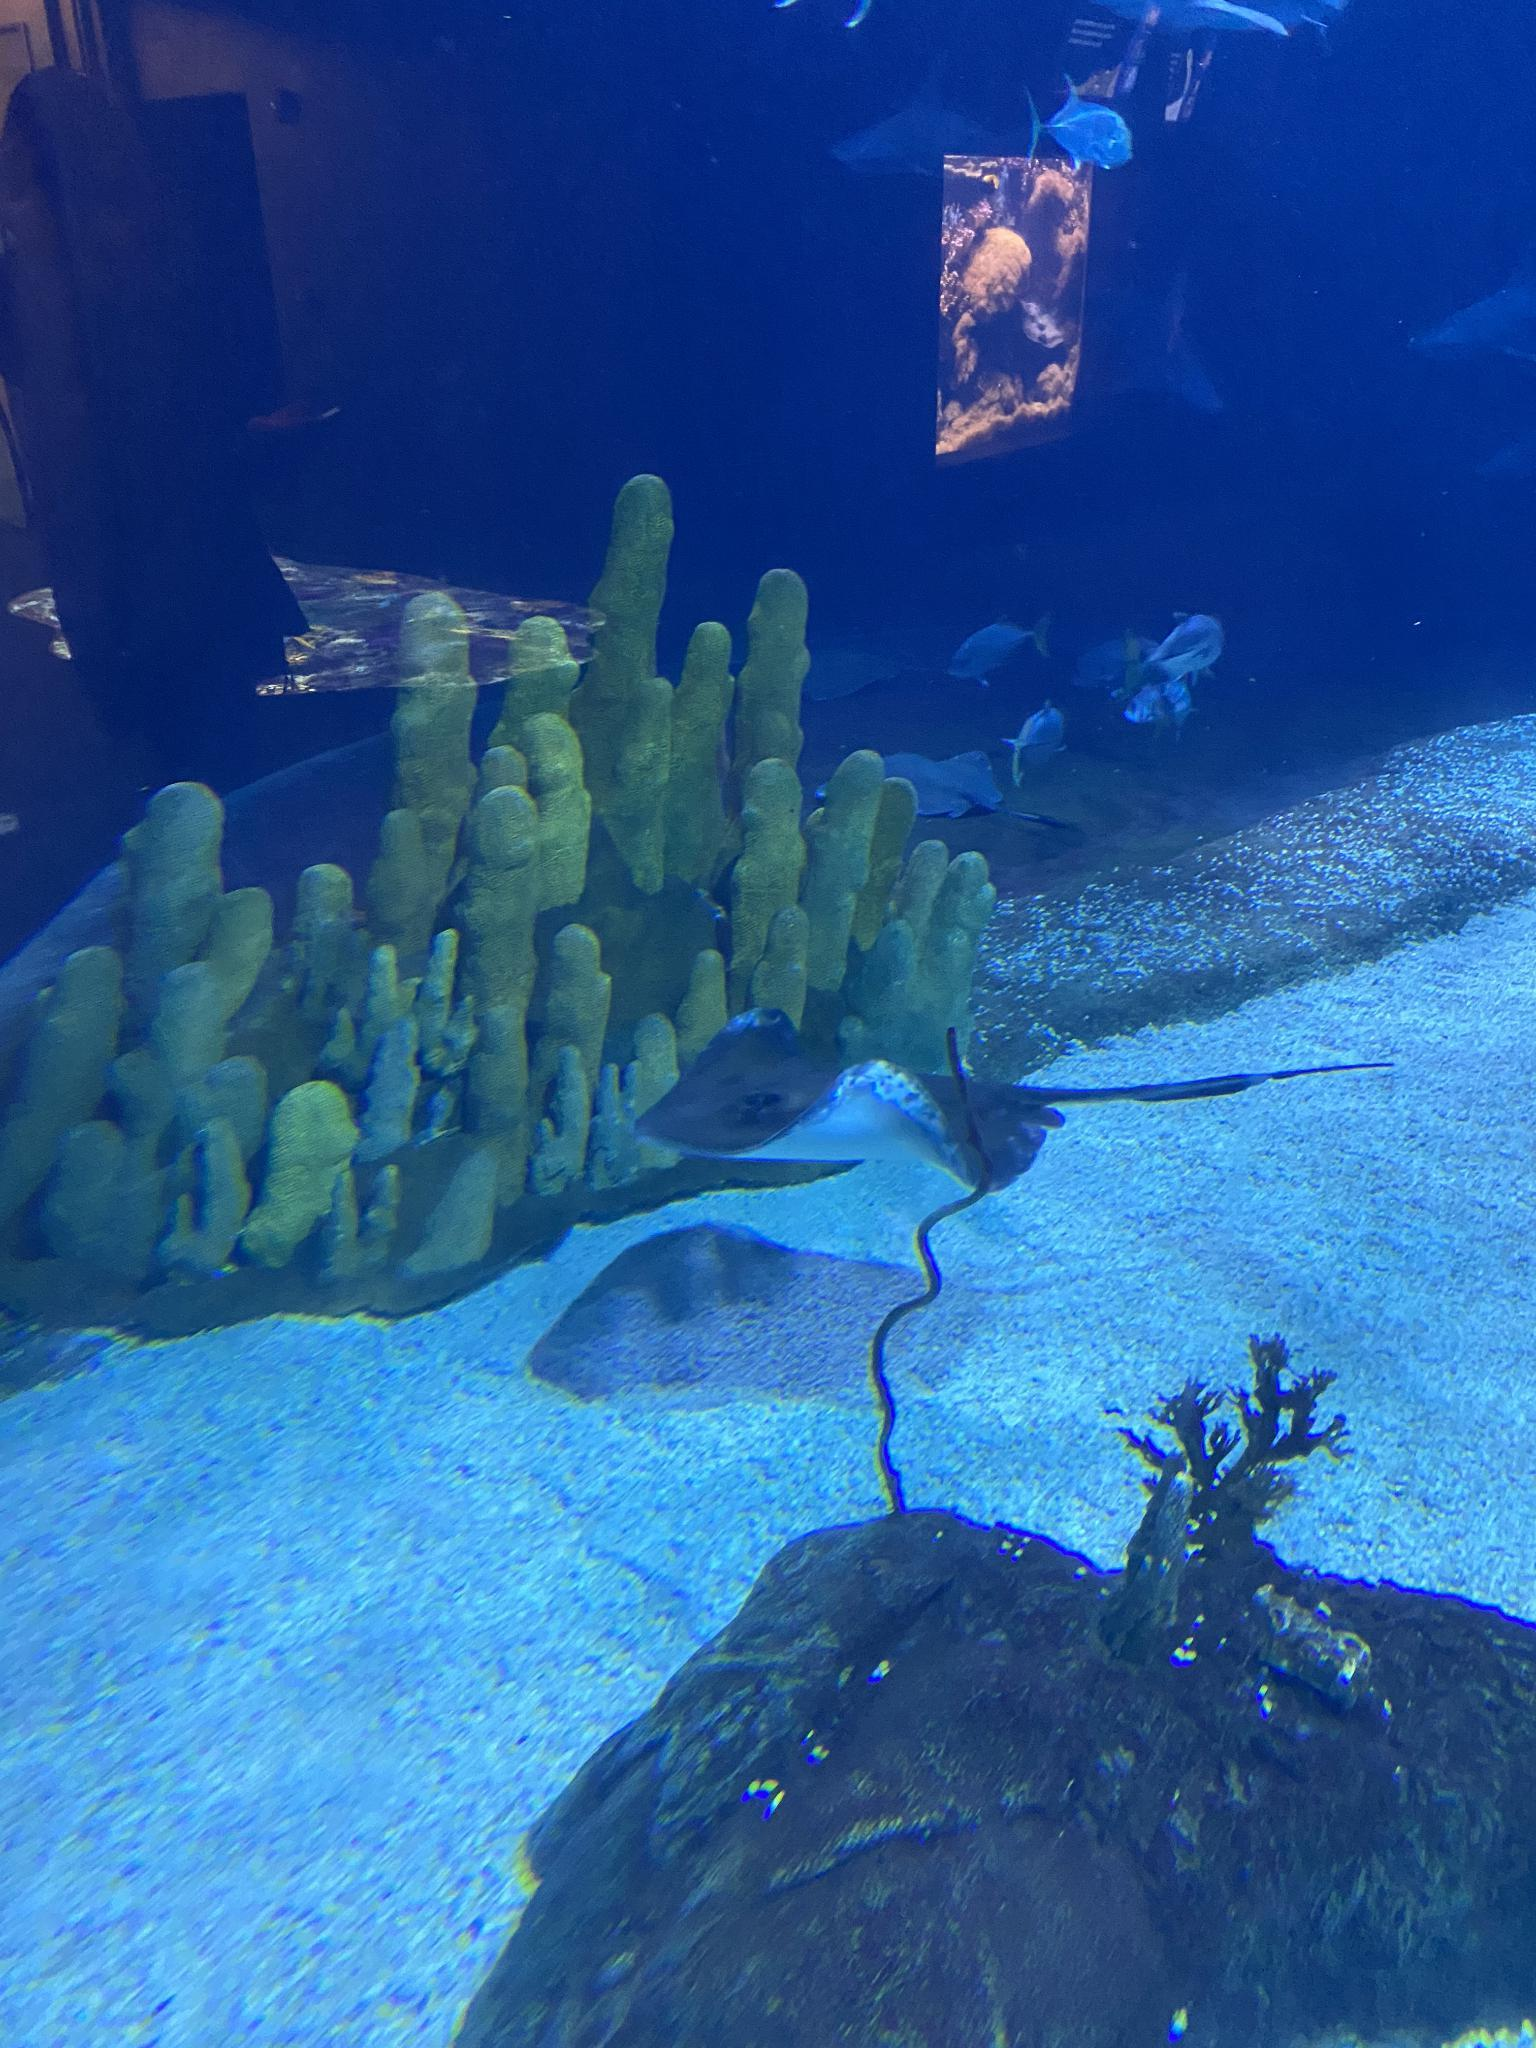fish: (1016, 89, 1146, 181), (1137, 613, 1238, 689), (957, 626, 1052, 684), (995, 716, 1073, 785)
stingray: (666, 1013, 1066, 1200)
